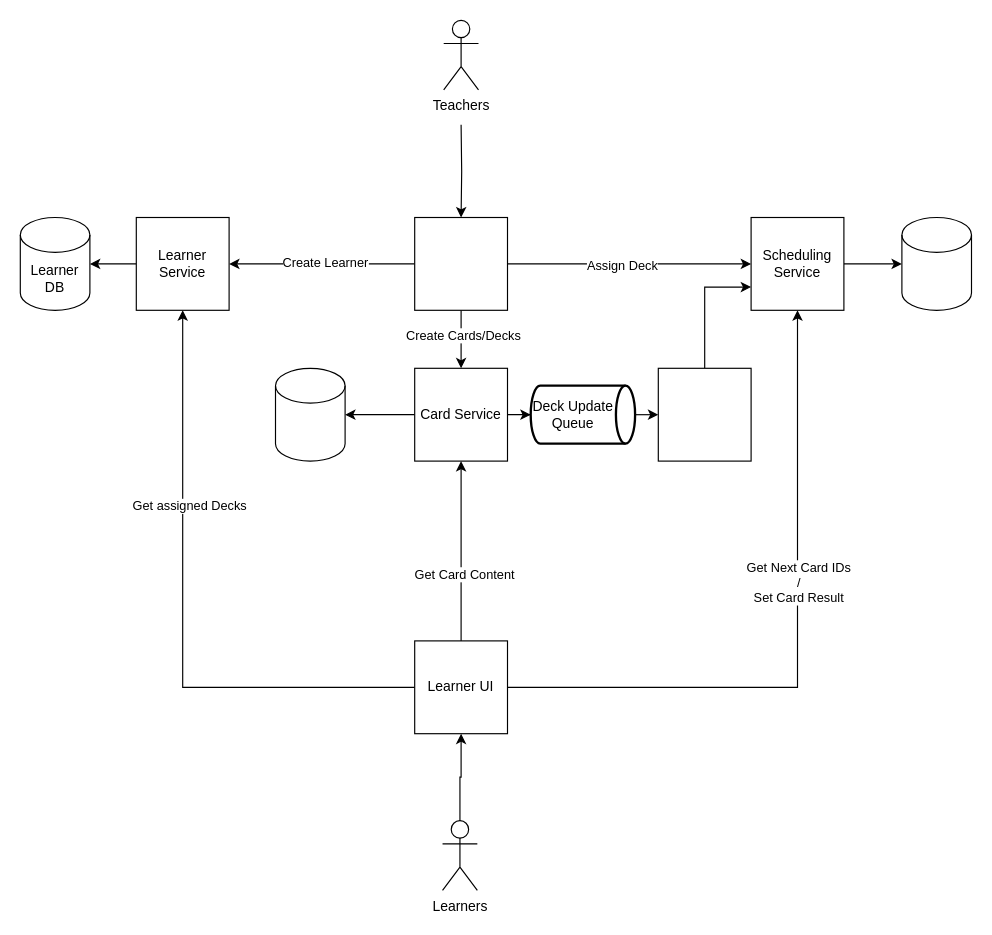
The diagram is 992 pixels wide and 935 high, and some of its shapes have lost their labels. Here are the shapes that lost their labels. From the top down, the centre of each, then its label:
At point (460, 263): "Teacher UI".
At point (936, 263): "Scheduling DB".
At point (309, 414): "Card DB".
At point (704, 414): "Deck Update Scheduler".
